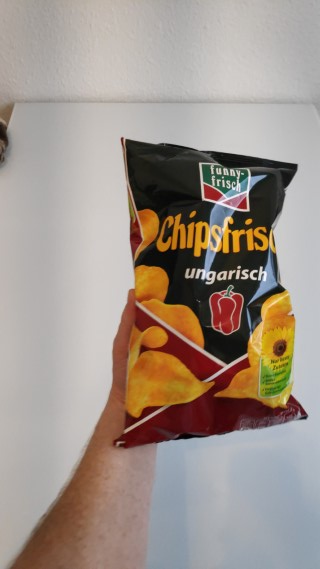chipsfrisch: (111, 135, 309, 449)
